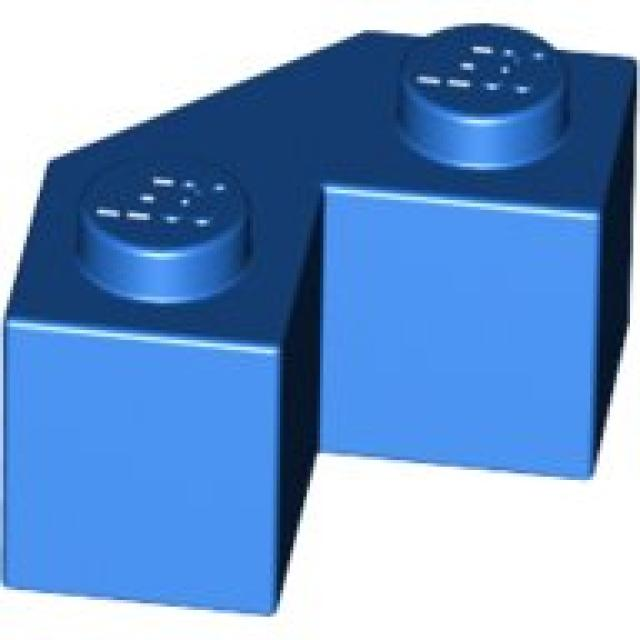Blue_Small: (0, 23, 640, 640)
